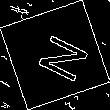N_NW: (24, 26, 86, 84)
